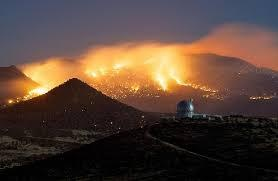fire: (74, 49, 219, 94), (23, 81, 51, 99), (248, 91, 273, 100)
